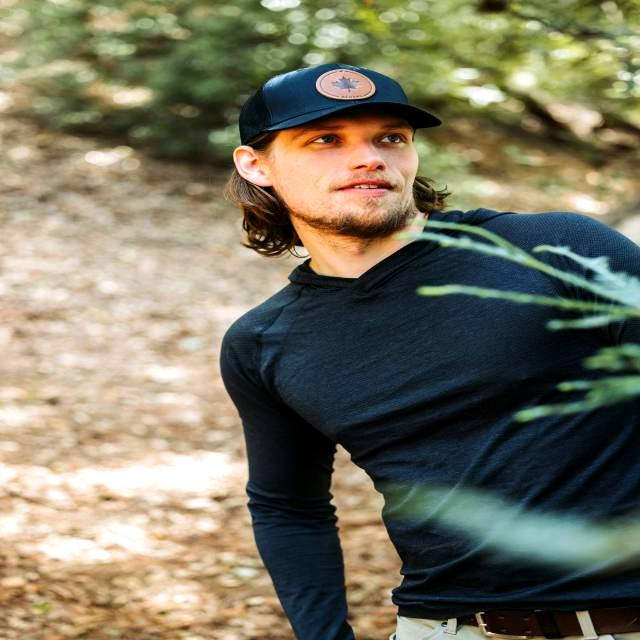no_hard_hat: (239, 63, 441, 144)
person: (221, 64, 640, 640)
